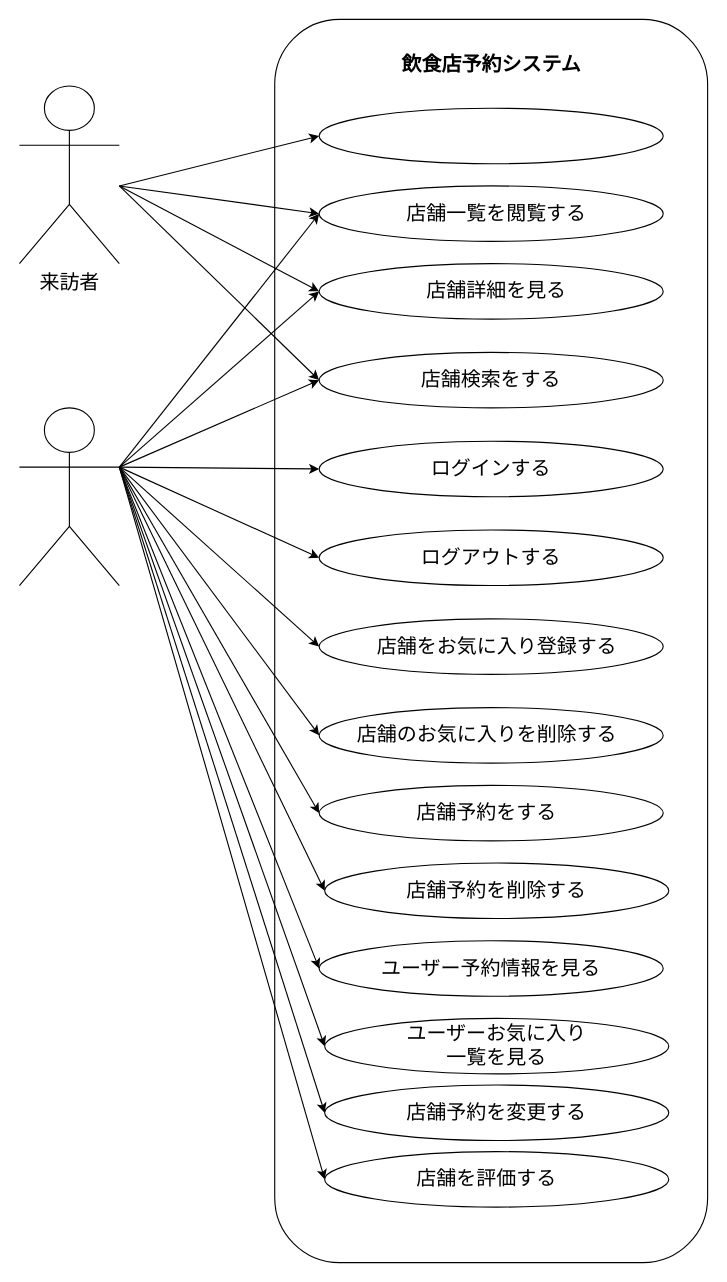
This 727x1282 diagram has some shape labels left out. Here are the shapes that lost their labels. From the top down, the box of each, then its label:
(318, 107, 663, 164): 会員登録をする
(18, 407, 119, 586): 会員
